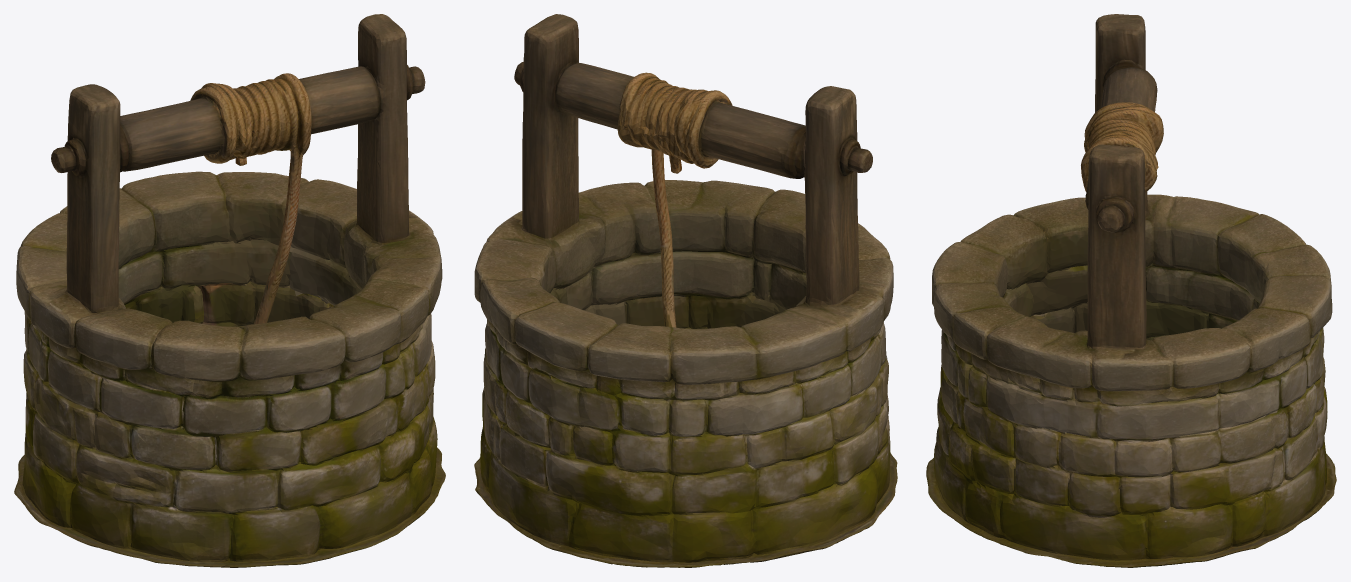
Rendered from well.glb.
3 views of the same model, side by side, from view 1: azimuth 30°, elevation 25°; view 2: azimuth 150°, elevation 25°; view 3: azimuth 270°, elevation 25° (orthographic). The views are drawn at different scales.
Parts seen in each view (by area): view 1: textured_mesh.obj; view 2: textured_mesh.obj; view 3: textured_mesh.obj.
Boxes of the visible parts, bbox=[...] form: textured_mesh.obj: bbox=[14, 14, 445, 567]; textured_mesh.obj: bbox=[474, 14, 897, 567]; textured_mesh.obj: bbox=[926, 14, 1336, 567].
Size of the model in its own units: 1.87 by 1.99 by 1.86.
Materials: 1 (1 with a texture image).
